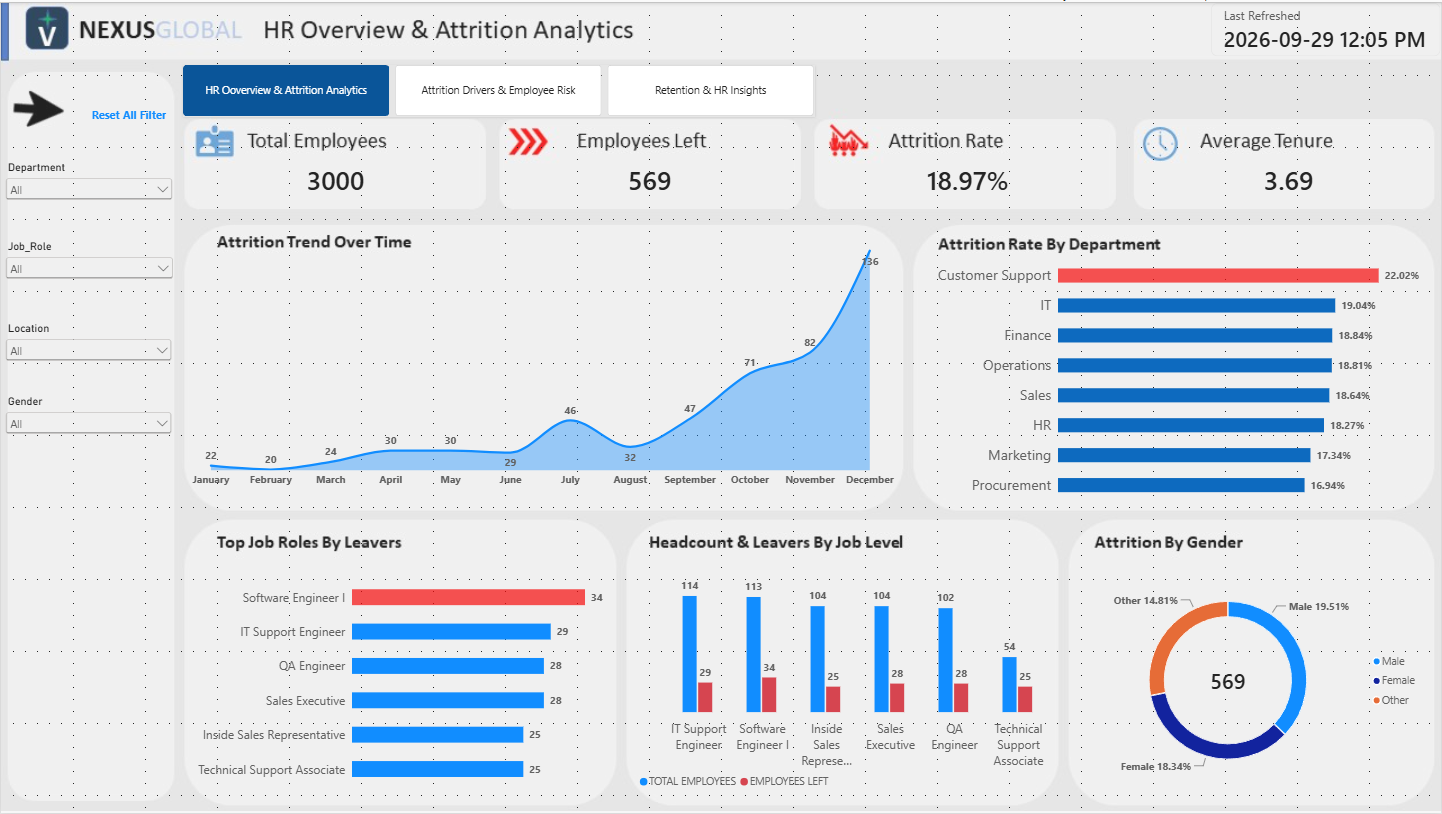

This screenshot's page, from the dashboard's own definition file:
{"tool":"powerbi","page":{"name":"HR Ooverview & Attrition Analytics","canvas":[1920,1080],"ordinal":0},"visuals":[{"type":"card","fields":{"Values":["Employees.TOTAL EMPLOYEES"]},"box":[242.3,193.5,406.9,88.4],"z":0},{"type":"card","fields":{"Values":["Attendance_Attrition.EMPLOYEES LEFT"]},"box":[661,193.4,407.3,87.8],"z":1000},{"type":"card","fields":{"Values":["Attendance_Attrition.ATTRITION RATE"]},"box":[1084.8,193.4,407.3,87.8],"z":2000},{"type":"card","fields":{"Values":["Employment_History.AVERAGE TENURE"]},"box":[1512.7,193.5,407.3,87.3],"z":3000},{"type":"areaChart","fields":{"Category":["Attendance_Attrition.Attrition_Date.Variation.Date Hierarchy.Month"],"Y":["Count(Attendance_Attrition.Employee_ID)"]},"box":[232,297.3,977.3,366.7],"z":4000},{"type":"clusteredBarChart","fields":{"Category":["Employees.Department"],"Y":["Attendance_Attrition.ATTRITION RATE"]},"box":[1221.3,316,689.3,369.3],"z":5000},{"type":"barChart","fields":{"Category":["Employees.Job_Role"],"Y":["Attendance_Attrition.EMPLOYEES LEFT"]},"box":[232,741.3,586.7,326.7],"z":6000},{"type":"clusteredColumnChart","fields":{"Category":["Employees.Job_Role"],"Y":["Employees.TOTAL EMPLOYEES","Attendance_Attrition.EMPLOYEES LEFT"]},"box":[834.9,743.3,593.5,325.8],"z":7000},{"type":"donutChart","fields":{"Category":["Employees.Gender"],"Y":["Attendance_Attrition.ATTRITION RATE"]},"box":[1428,741.3,482.7,325.3],"z":8000},{"type":"slicer","fields":{"Values":["Employees.Department"]},"box":[1.5,210.9,232,70.7],"z":9000},{"type":"slicer","fields":{"Values":["Employees.Job_Role"]},"box":[1.5,315.6,232.7,80],"z":10000},{"type":"slicer","fields":{"Values":["Employees.Location"]},"box":[1.5,424.7,231.3,75.6],"z":11000},{"type":"slicer","fields":{"Values":["Employees.Gender"]},"box":[1.5,522.2,231.3,84.4],"z":12000},{"type":"actionButton","box":[72.7,117.9,159.1,64.5],"z":13000},{"type":"cardVisual","fields":{"Data":["Employees.Last Refreshed"]},"box":[1613.7,0,306.3,71.6],"z":14000},{"type":"pageNavigator","box":[242.3,82.3,842.7,68.6],"z":15000}]}

Visuals, with their boxes in screenshot pixels (x1, y1, x2, y2), scaled from the page's 1920x1080 canvas onto the 1442x814 screenshot:
card - Employees.TOTAL EMPLOYEES: 182:146:488:212
card - Attendance_Attrition.EMPLOYEES LEFT: 496:146:802:212
card - Attendance_Attrition.ATTRITION RATE: 815:146:1121:212
card - Employment_History.AVERAGE TENURE: 1136:146:1441:212
areaChart - Attendance_Attrition.Attrition_Date.Variation.Date Hierarchy.Month x Count(Attendance_Attrition.Employee_ID): 174:224:908:500
clusteredBarChart - Employees.Department x Attendance_Attrition.ATTRITION RATE: 917:238:1435:517
barChart - Employees.Job_Role x Attendance_Attrition.EMPLOYEES LEFT: 174:559:615:805
clusteredColumnChart - Employees.Job_Role x Employees.TOTAL EMPLOYEES: 627:560:1073:806
donutChart - Employees.Gender x Attendance_Attrition.ATTRITION RATE: 1072:559:1435:804
slicer - Employees.Department: 1:159:175:212
slicer - Employees.Job_Role: 1:238:176:298
slicer - Employees.Location: 1:320:175:377
slicer - Employees.Gender: 1:394:175:457
actionButton: 55:89:174:137
cardVisual - Employees.Last Refreshed: 1212:0:1441:54
pageNavigator: 182:62:815:114
